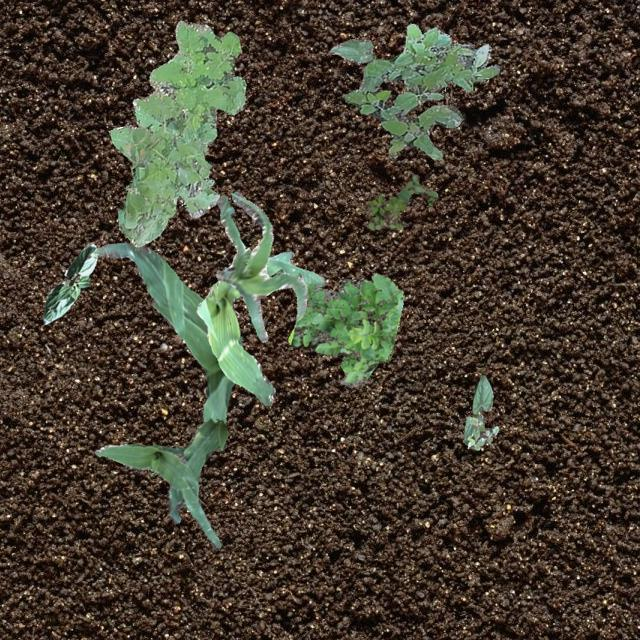crop: (96, 242, 234, 422), (194, 250, 324, 404), (94, 418, 228, 548), (216, 190, 306, 342), (42, 242, 96, 324), (330, 38, 384, 92), (462, 374, 492, 444)
weed: (108, 19, 245, 246), (344, 23, 498, 158), (288, 272, 402, 386), (362, 174, 438, 228), (467, 416, 498, 448)
